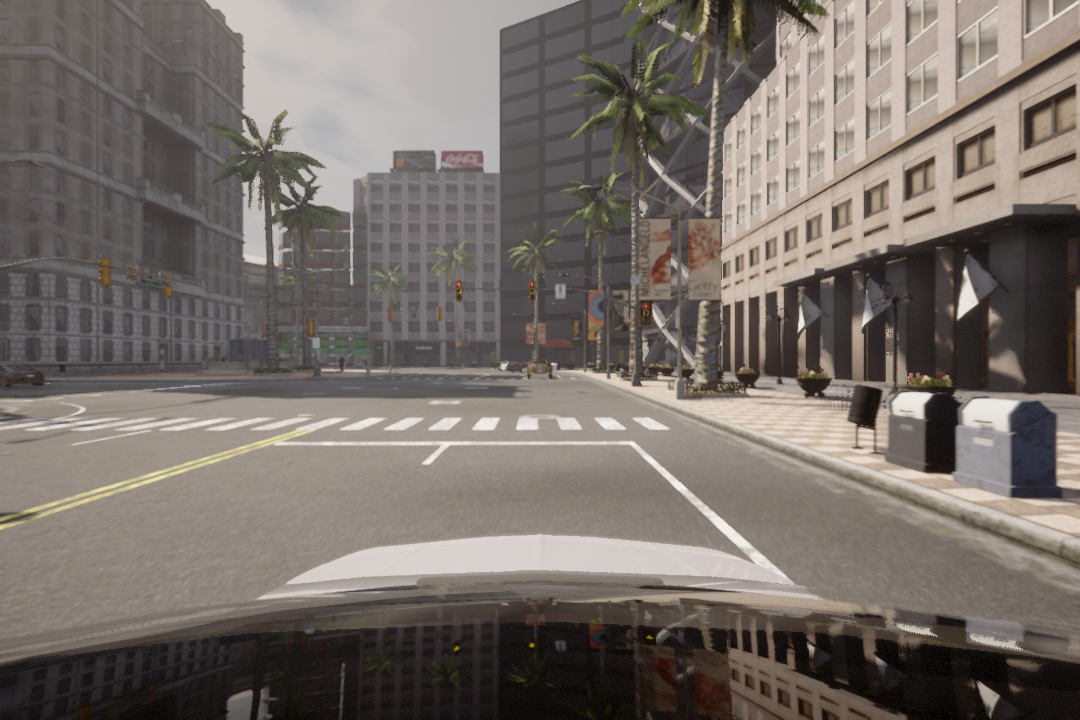TrafficLight: (452, 279, 466, 304), (640, 300, 650, 322), (527, 280, 537, 302)
walkside: (2, 411, 683, 434)
